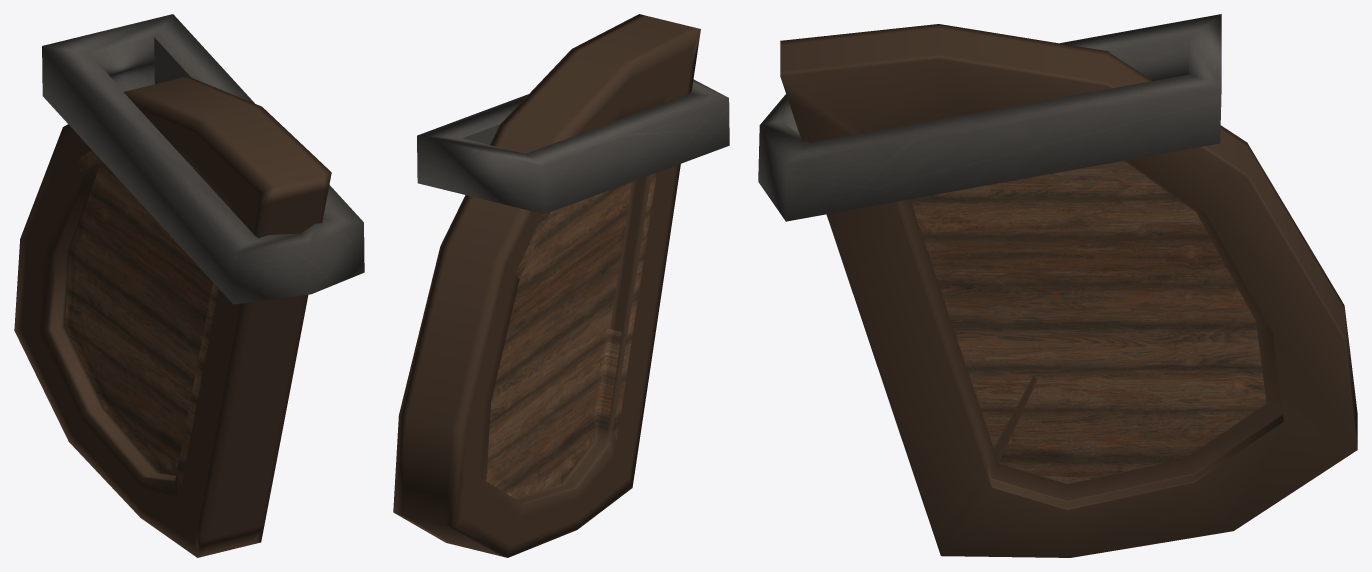
File: cola_merry.obj
3 renders of one model, left to right at view 1: azimuth 30°, elevation 25°; view 2: azimuth 150°, elevation 25°; view 3: azimuth 270°, elevation 25°, orthographic. The views are drawn at different scales.
Parts seen in each view (by area): view 1: polySurface1025polySurface1391polySurface1391; view 2: polySurface1025polySurface1391polySurface1391; view 3: polySurface1025polySurface1391polySurface1391.
Boxes of the visible parts, box(x1,y1,x2,y2) form: polySurface1025polySurface1391polySurface1391: box(14, 14, 364, 557); polySurface1025polySurface1391polySurface1391: box(393, 14, 729, 557); polySurface1025polySurface1391polySurface1391: box(758, 14, 1357, 557).
Bounding box in the file's own units: 1.55 × 4.93 × 5.37.
Materials: 3 (3 with a texture image).
